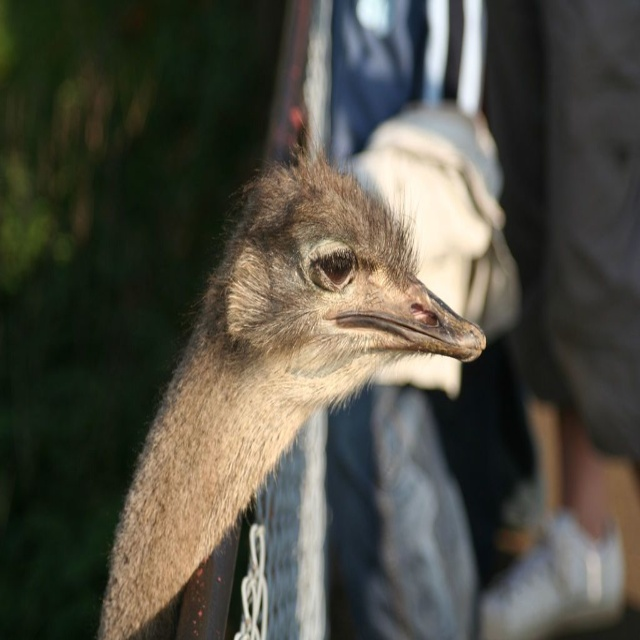Ostrich: (96, 156, 490, 639)
